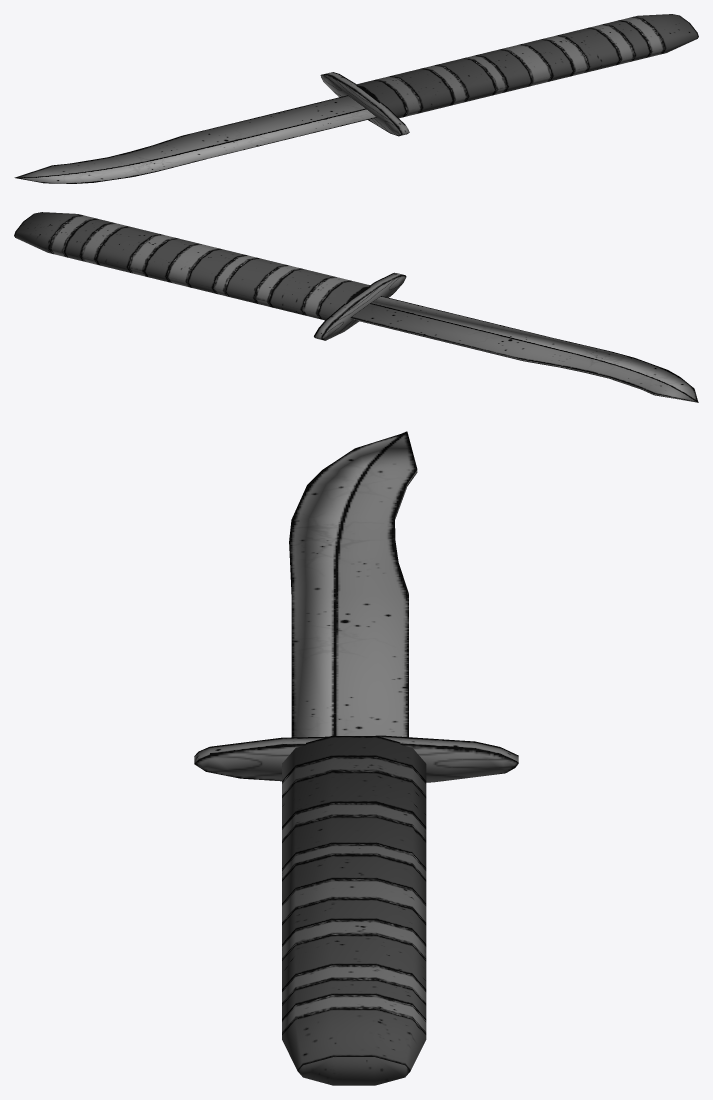
File: Knife.obj
3 renders of one model, top to bottom at view 1: azimuth 30°, elevation 25°; view 2: azimuth 150°, elevation 25°; view 3: azimuth 270°, elevation 25°, orthographic. The views are drawn at different scales.
Visible parts, largest first — view 1: Knife; view 2: Knife; view 3: Knife.
Boxes of the visible parts, <box> form: Knife: <box>14,14,698,183</box>; Knife: <box>14,212,698,402</box>; Knife: <box>194,431,518,1085</box>.
Bounding box in the file's own units: 9.37 × 0.3498 × 2.
